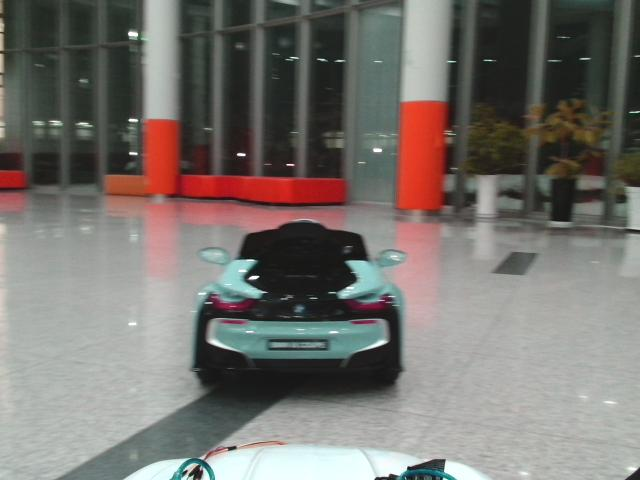car: (192, 219, 407, 389)
